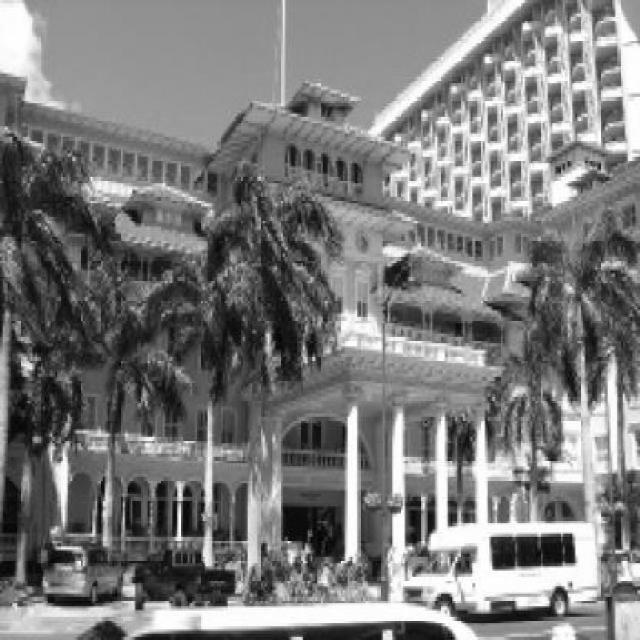Bus- Small: (399, 522, 600, 618)
